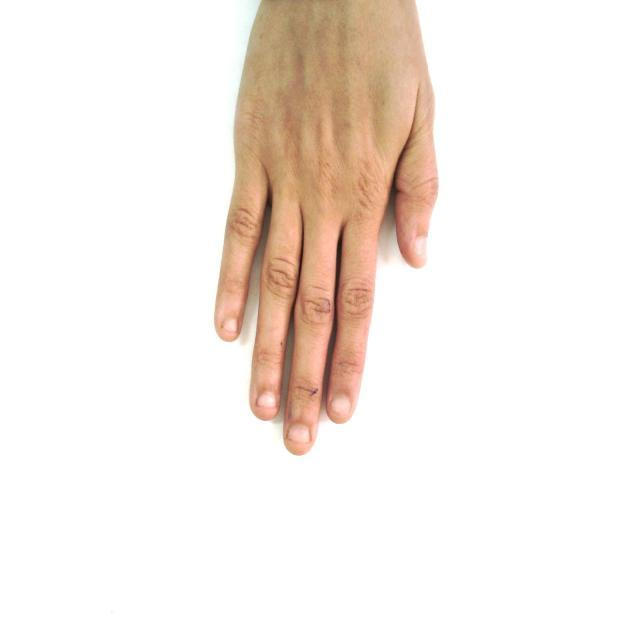Fingernail: (289, 425, 310, 444), (331, 396, 349, 418), (258, 394, 275, 412), (414, 237, 427, 260), (223, 319, 238, 333)
